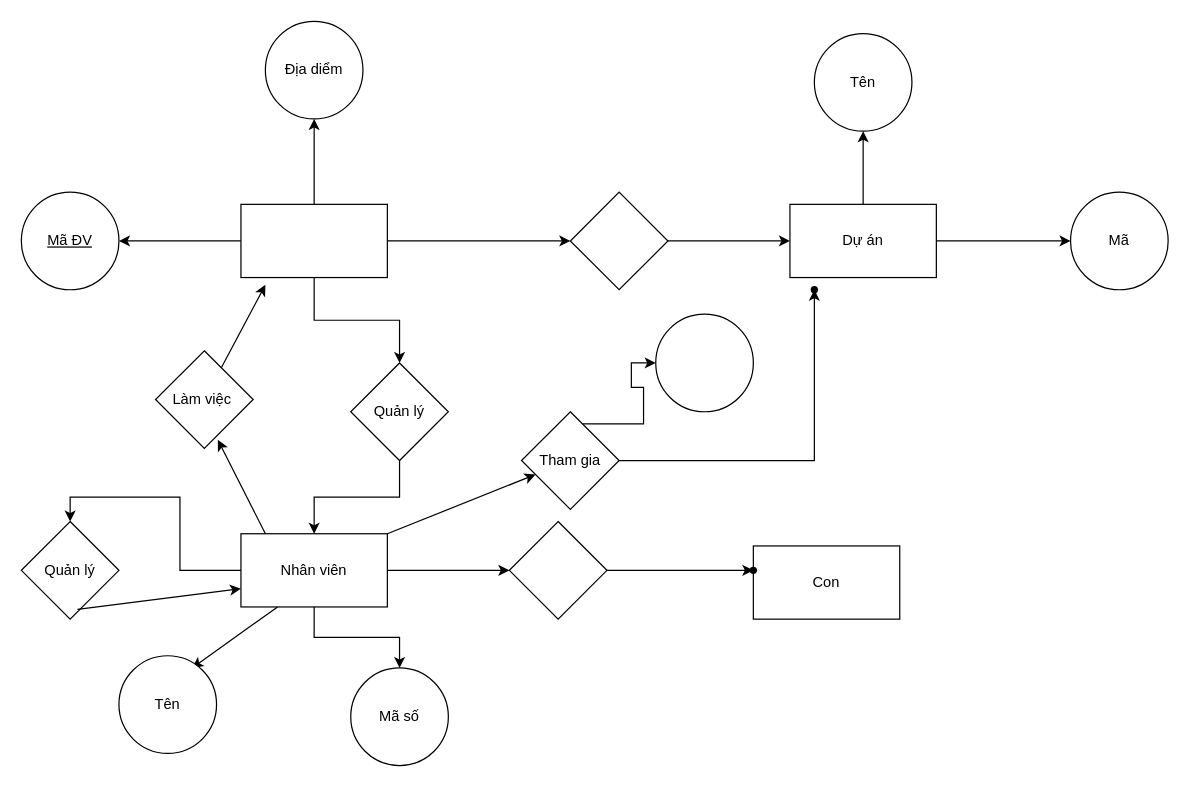
Image size: 1190x787. Some labels were removed from this diagram. Each missing label, with the centre of its shape:
"Có" goes at (x=557, y=569).
"Kiểm soát" goes at (x=618, y=240).
"Số giờ" goes at (x=704, y=362).
"Đơn vị" goes at (x=313, y=240).
